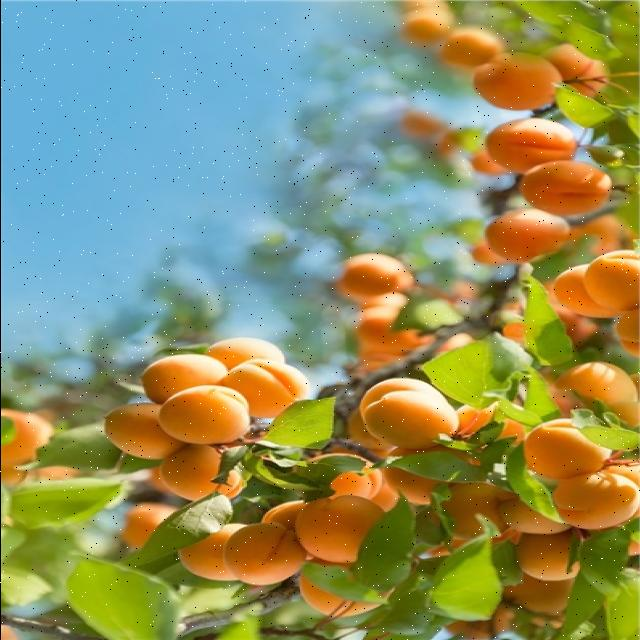Kayisi: (524, 419, 609, 479), (159, 386, 248, 442), (487, 118, 577, 173), (555, 471, 640, 528), (219, 362, 307, 417), (227, 522, 306, 583), (523, 162, 609, 214), (476, 57, 561, 109), (338, 253, 413, 300)
